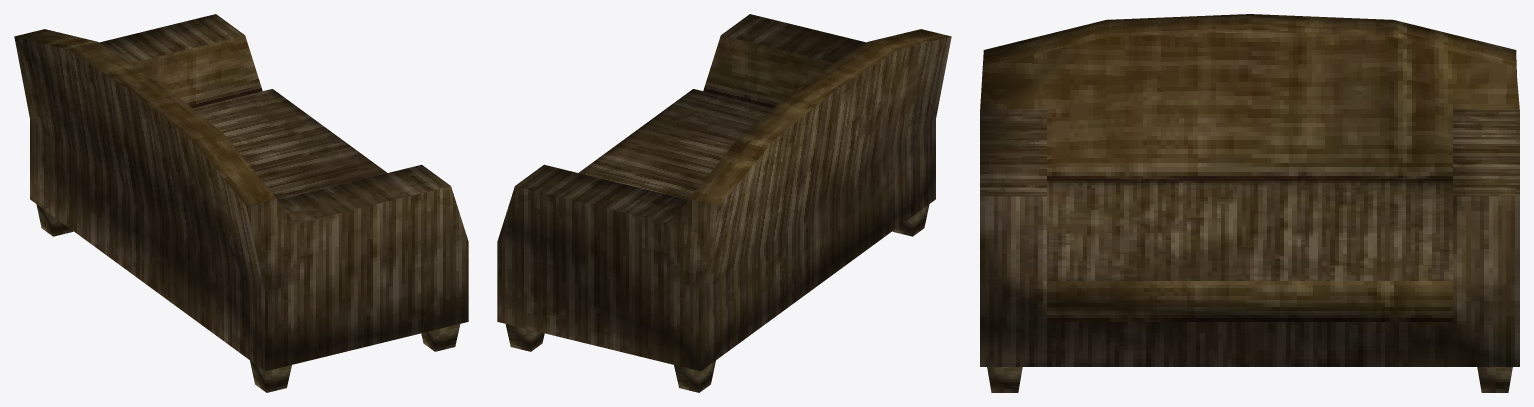
Rendered from f_couch.glb.
3 renders of one model, left to right at view 1: azimuth 30°, elevation 25°; view 2: azimuth 150°, elevation 25°; view 3: azimuth 270°, elevation 25°, orthographic. The views are drawn at different scales.
Visible parts, largest first — view 1: Couch; view 2: Couch; view 3: Couch.
Part boxes in pixels (left/top/right/bottom): Couch: left=14, top=14, right=468, bottom=392; Couch: left=497, top=14, right=951, bottom=392; Couch: left=980, top=14, right=1519, bottom=392.
Size of the model in its own units: 0.9072 by 0.8504 by 1.6.
1 material, 1 textured.
